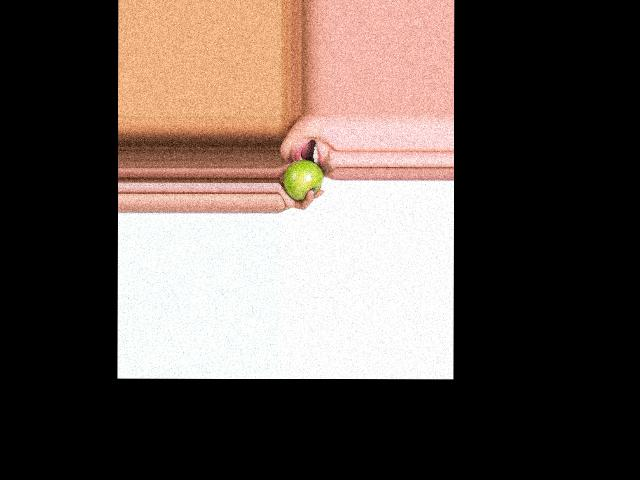apple: (283, 158, 323, 201)
